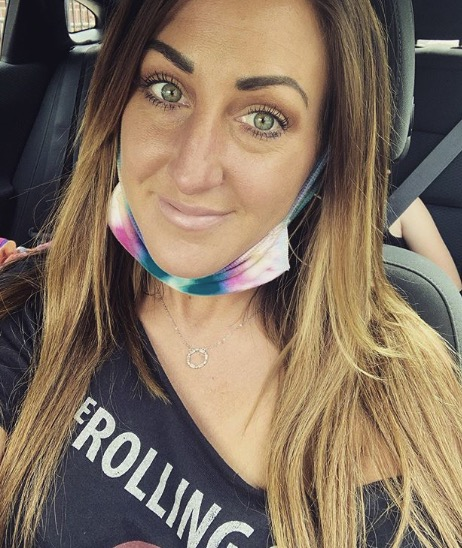mask_weared_incorrect: (125, 43, 299, 298)
